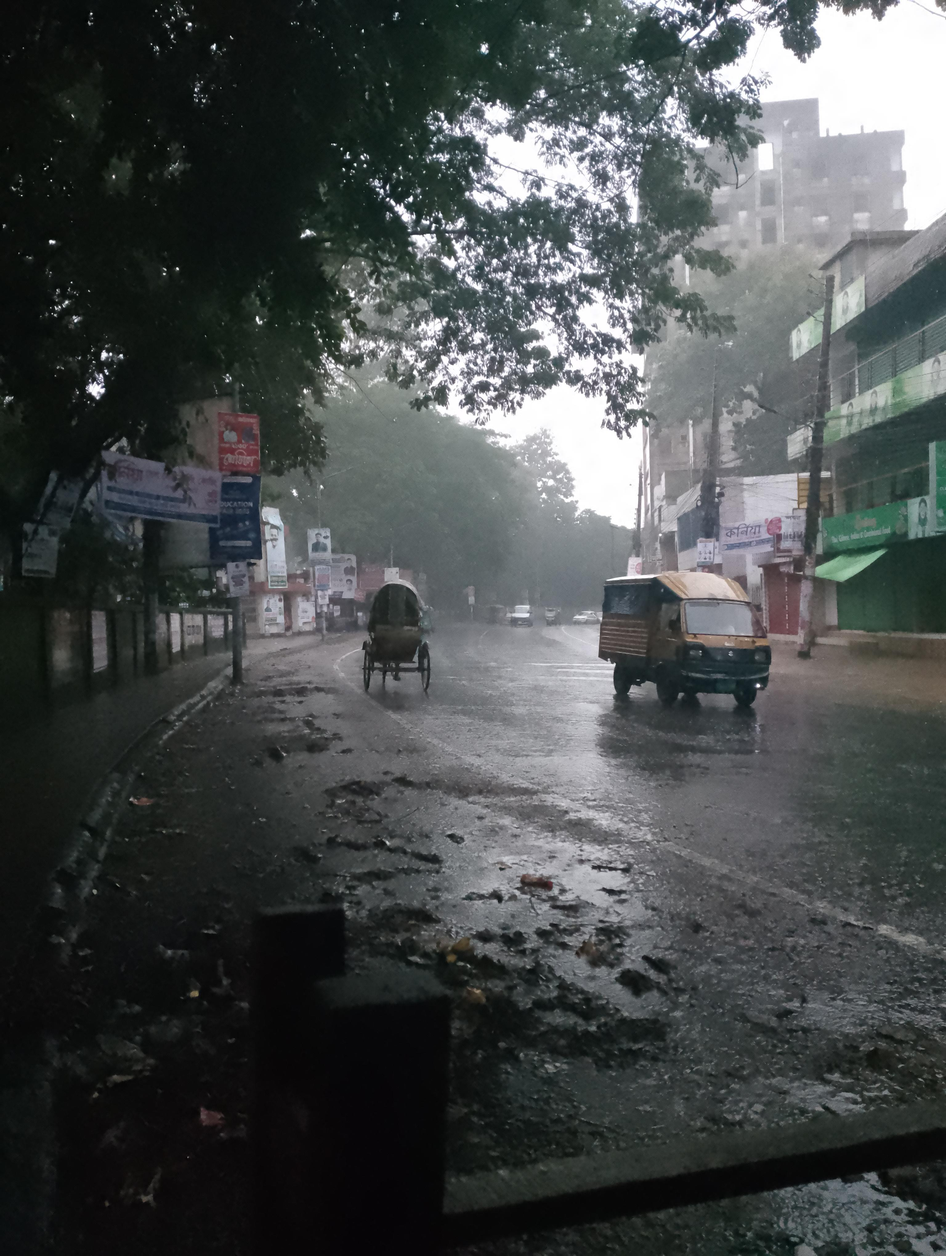Car: (587, 553, 783, 736), (348, 568, 456, 715)
